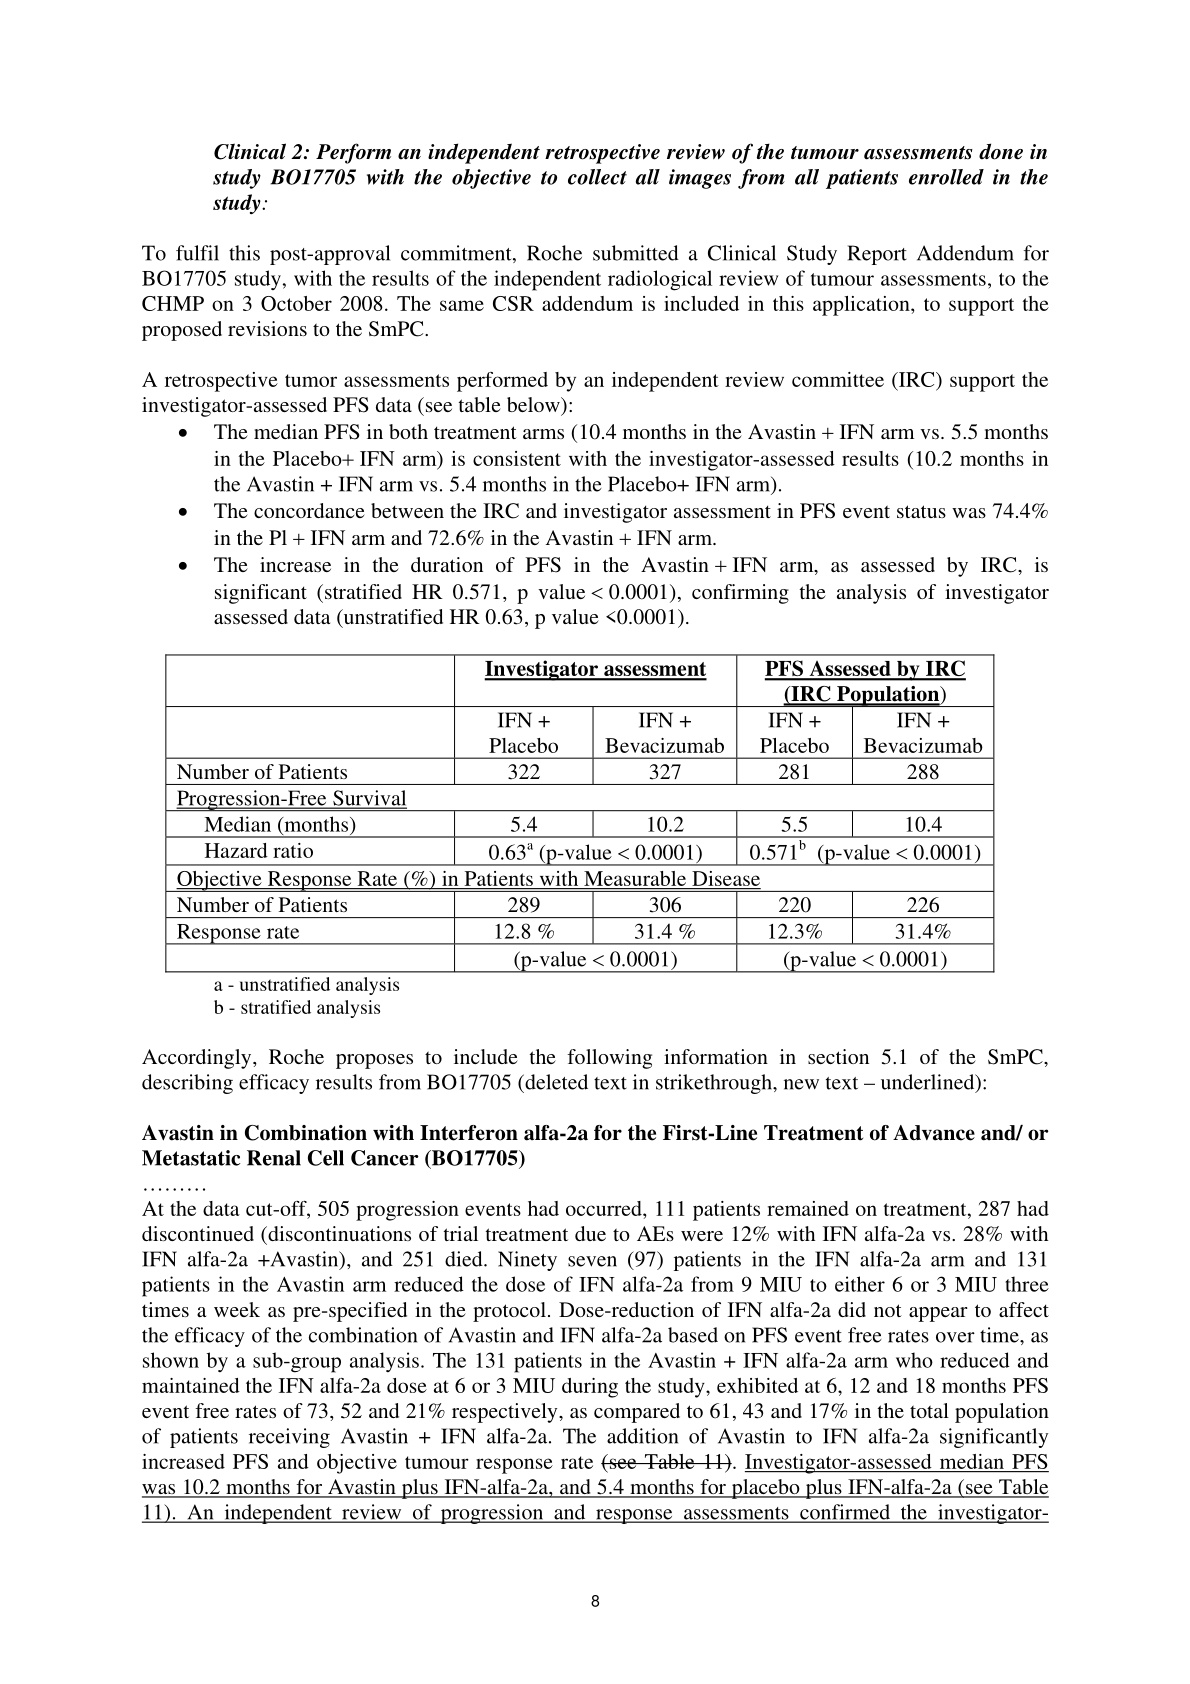merged_cells: (164, 653, 996, 975)
